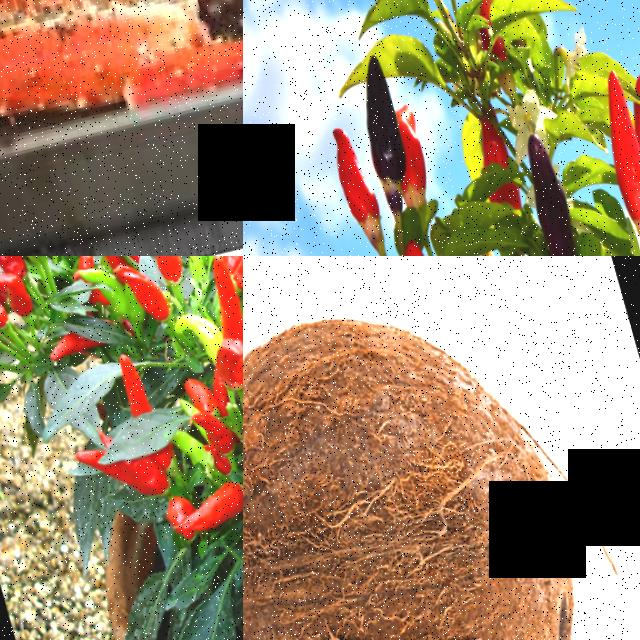chilli: (583, 65, 640, 256), (320, 113, 391, 256), (106, 256, 170, 333), (165, 475, 243, 536), (197, 256, 243, 352), (616, 63, 640, 210), (105, 344, 152, 417), (185, 403, 236, 468), (119, 256, 185, 289), (0, 256, 56, 279), (232, 364, 243, 426)
coconut: (243, 257, 637, 640)
crab: (0, 0, 243, 150)
